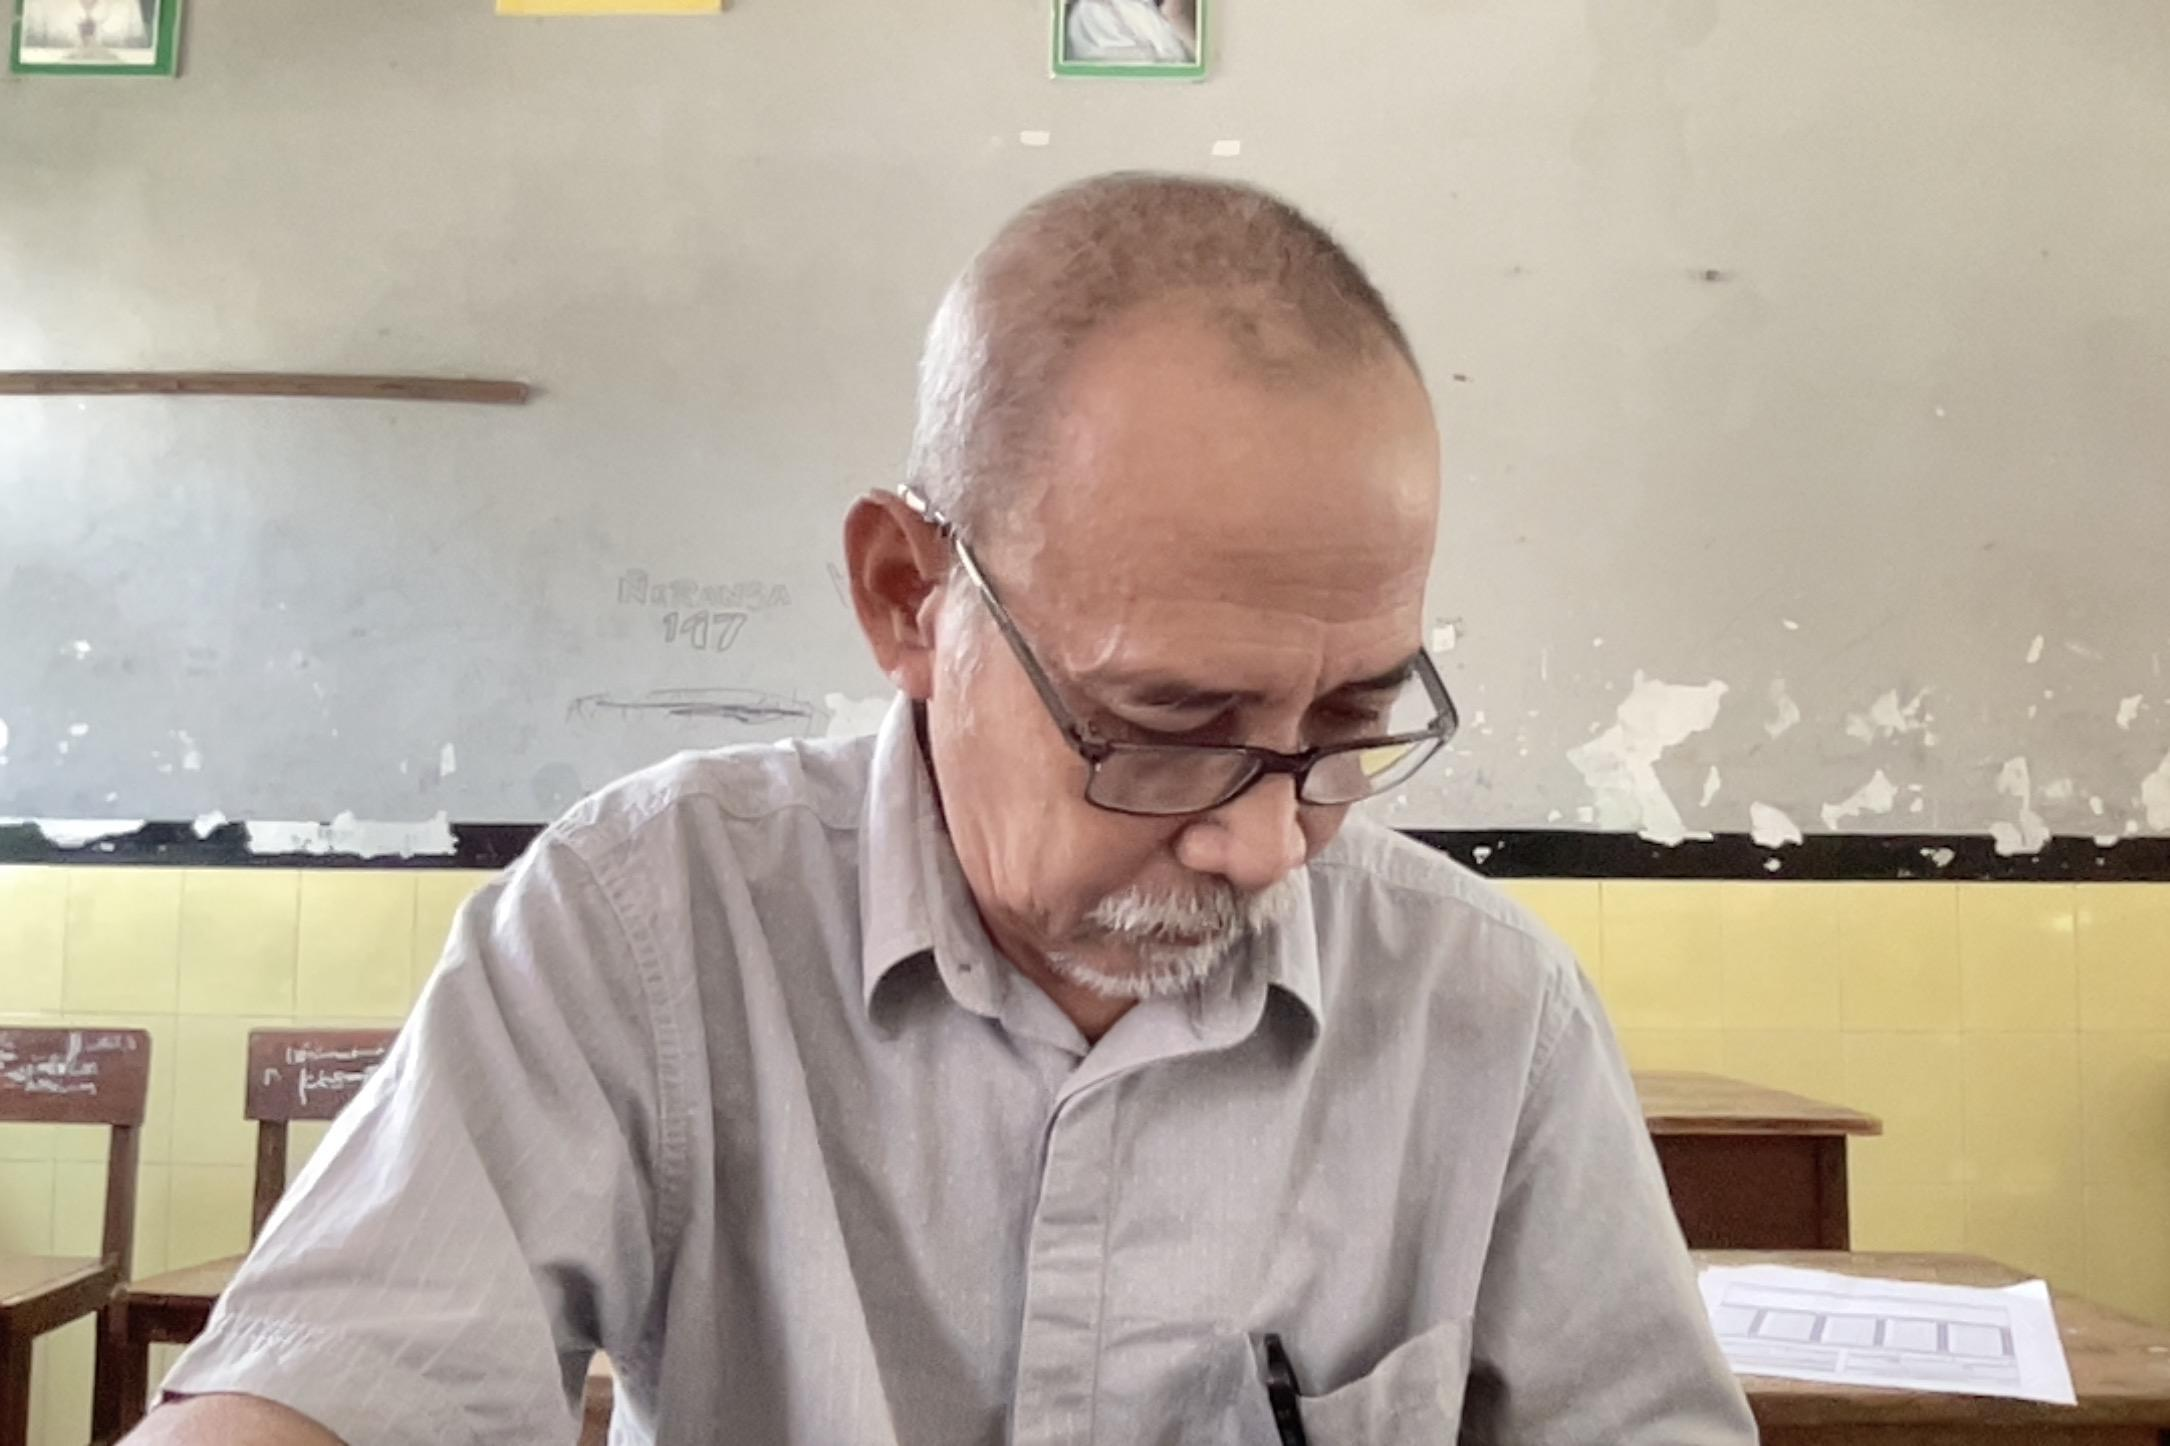good: (74, 140, 1820, 1446)
